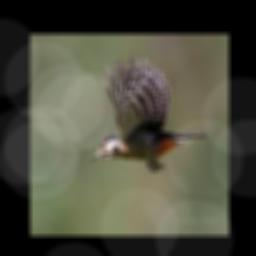Woodpecker: (86, 58, 206, 171)
